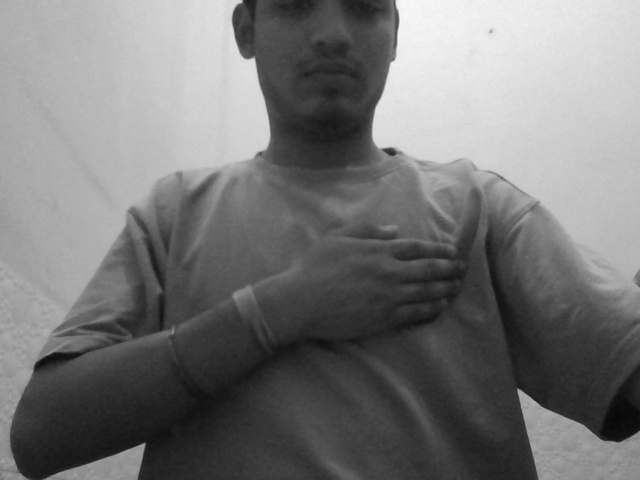Sorry: (275, 179, 487, 385)
